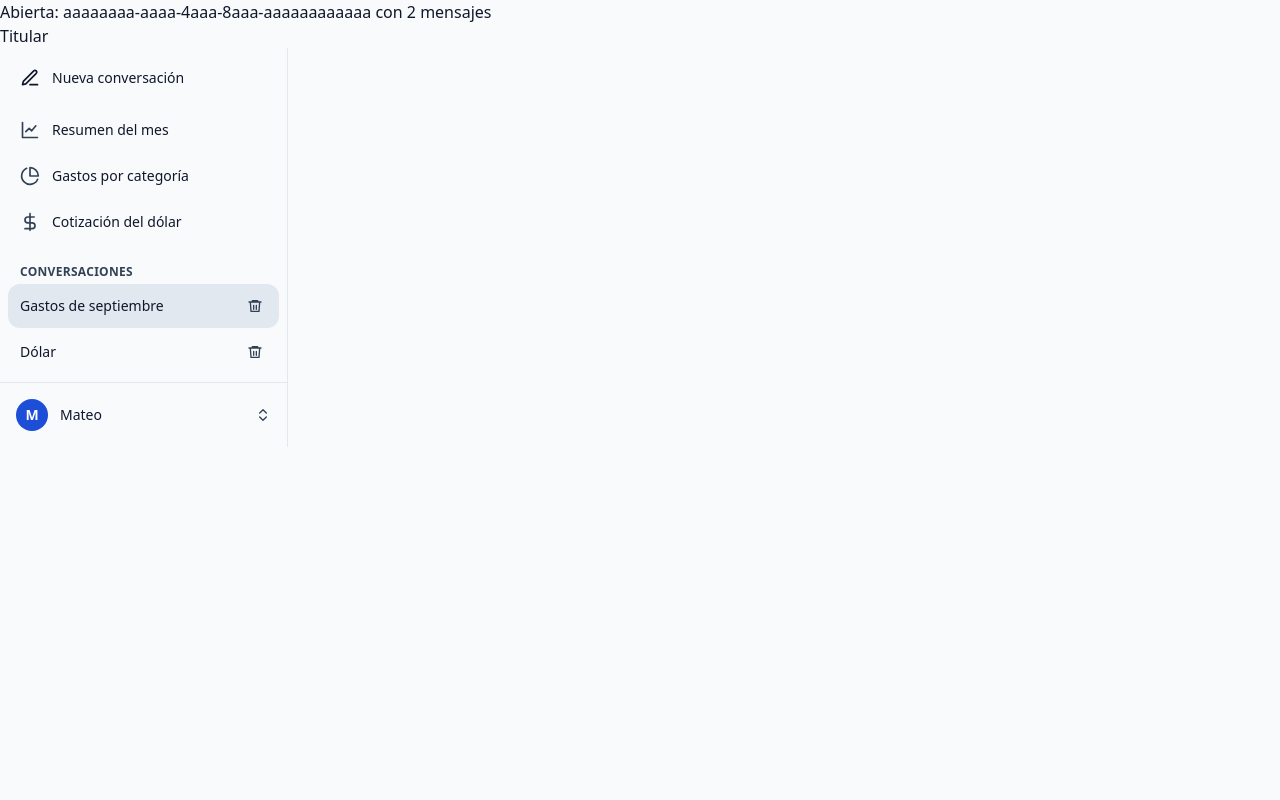
it: borrar una conversación (con «Deshacer») › al confirmar, el diálogo se cierra, el ítem se pliega fuera del teclado y aparece el aviso con el foco en «Deshacer»
Click the button named "Borrar la conversación «Dólar»": (255, 352) [233,330,277,374]
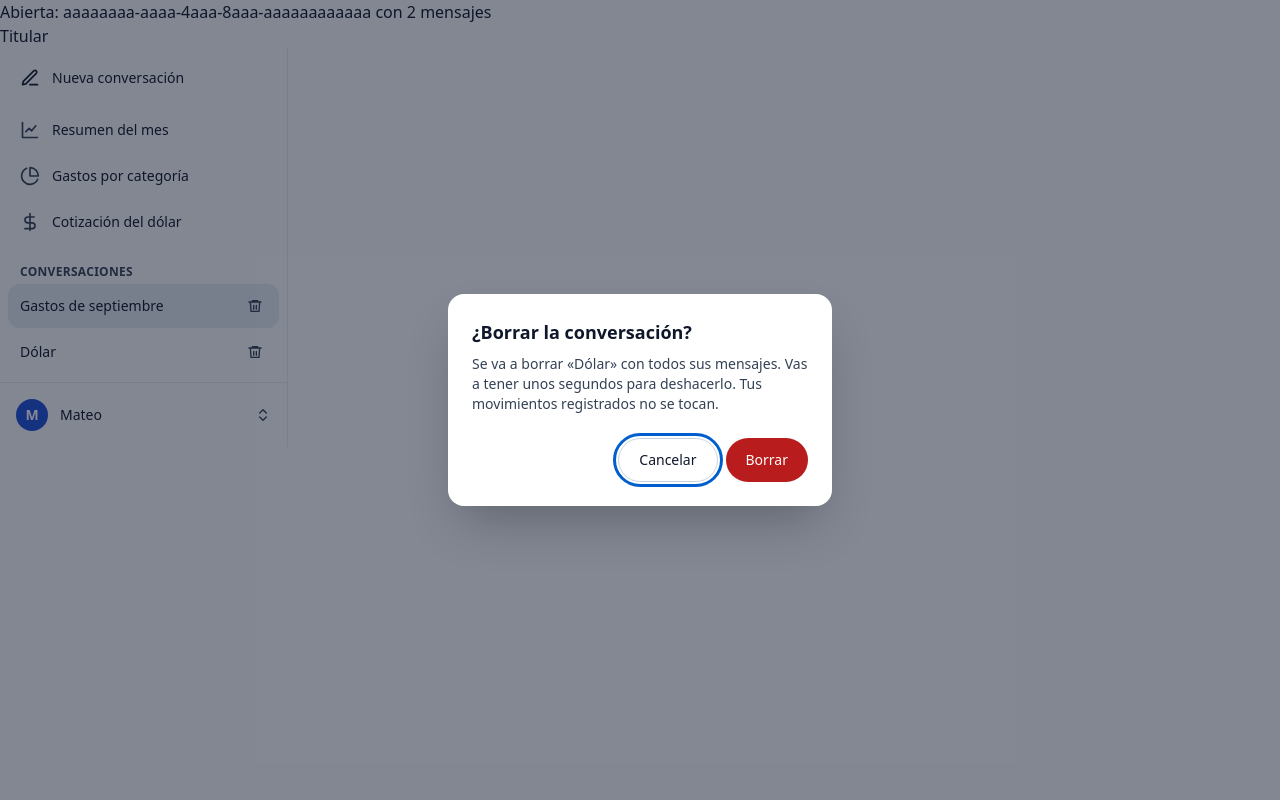
Click the button "Borrar": (767, 460) [726,438,808,482]
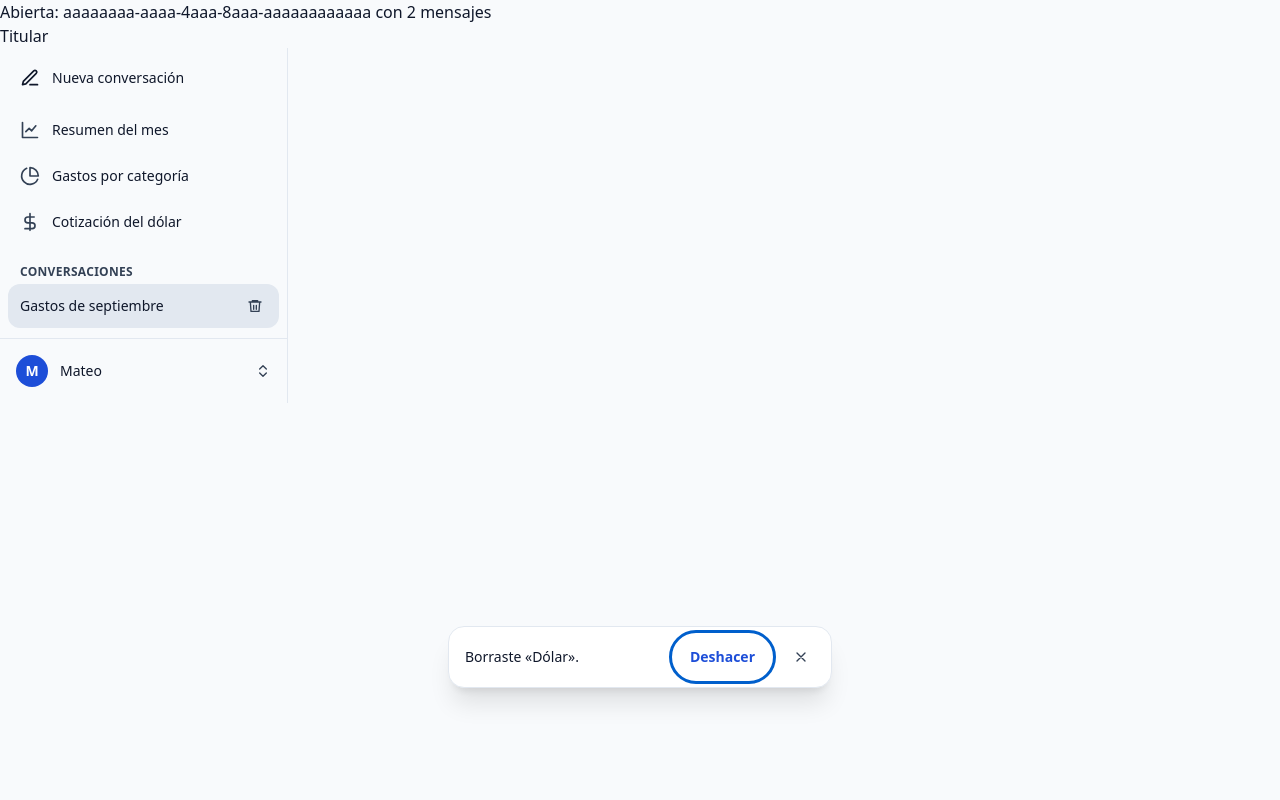
Check: the dialog is gone
Check: the text "Borraste «Dólar»." is shown, box [465,647,579,666]
